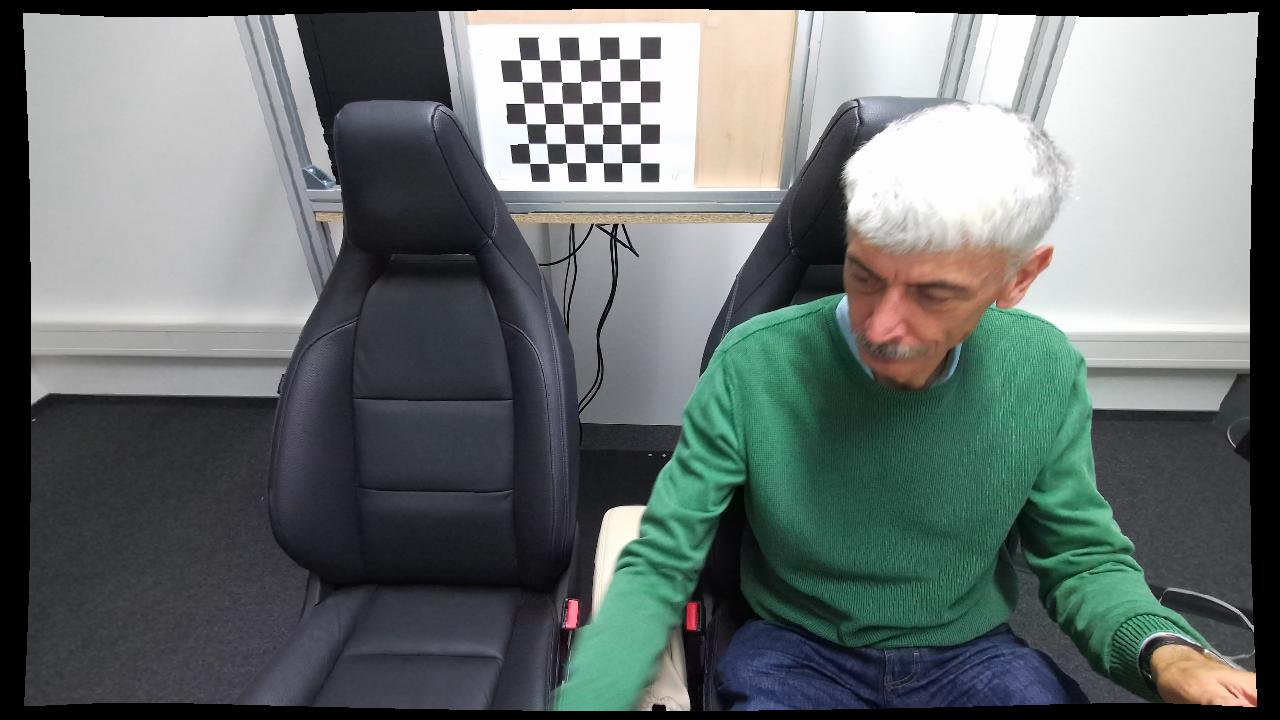Distracted: (547, 90, 1133, 715)
